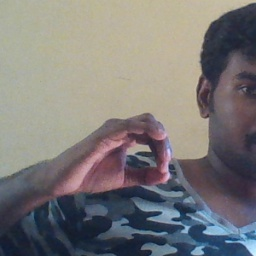O: (49, 110, 176, 195)
